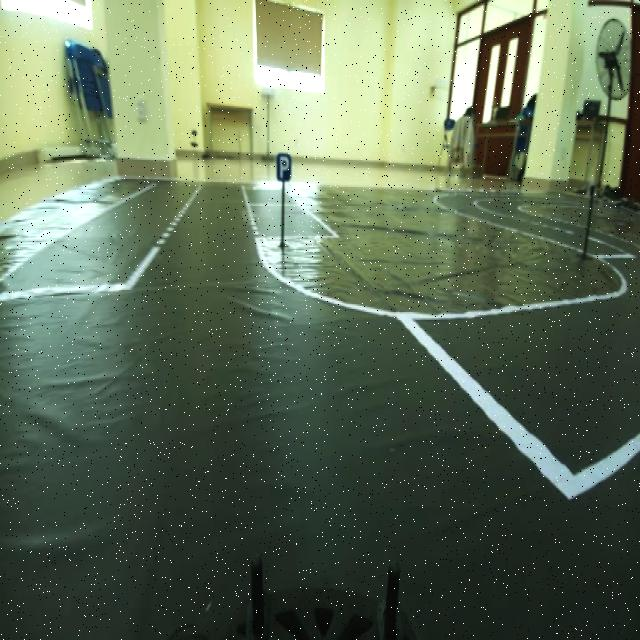parking: (270, 139, 300, 186)
